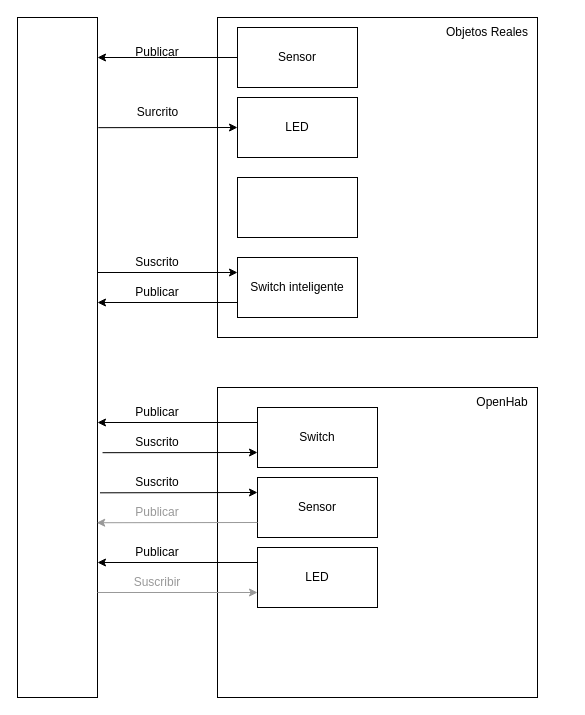
The diagram is 585 pixels wide and 715 high, and some of its shapes have lost their labels. The centre of each missing label's shape, as x and y in pixels:
Broker MQTT: point 57,357
Switch normal Siempre encendido: point 297,207
